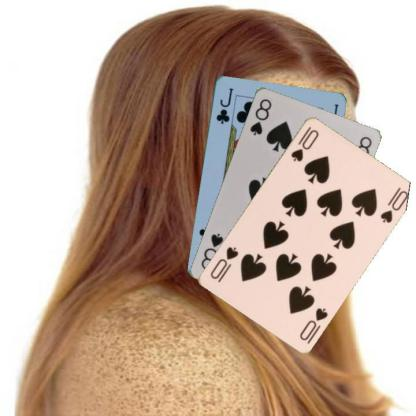10s: (296, 304, 330, 342), (288, 126, 320, 163)
8s: (247, 96, 273, 136)
Jc: (213, 85, 234, 125)
